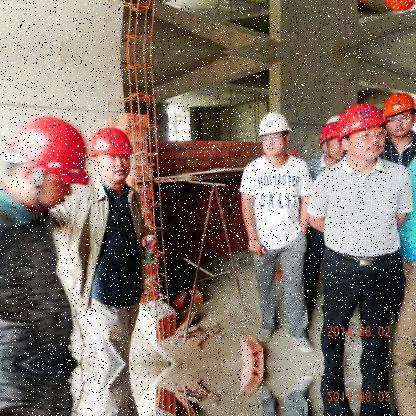Helmet: (2, 113, 90, 210), (331, 99, 394, 162), (83, 122, 140, 189), (374, 81, 415, 141), (251, 108, 295, 159), (314, 122, 349, 160), (384, 0, 415, 14)
